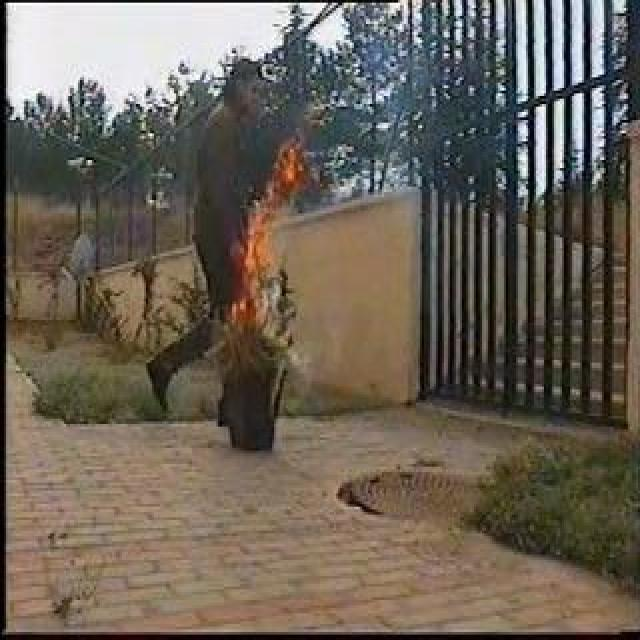fire: (229, 156, 301, 319)
